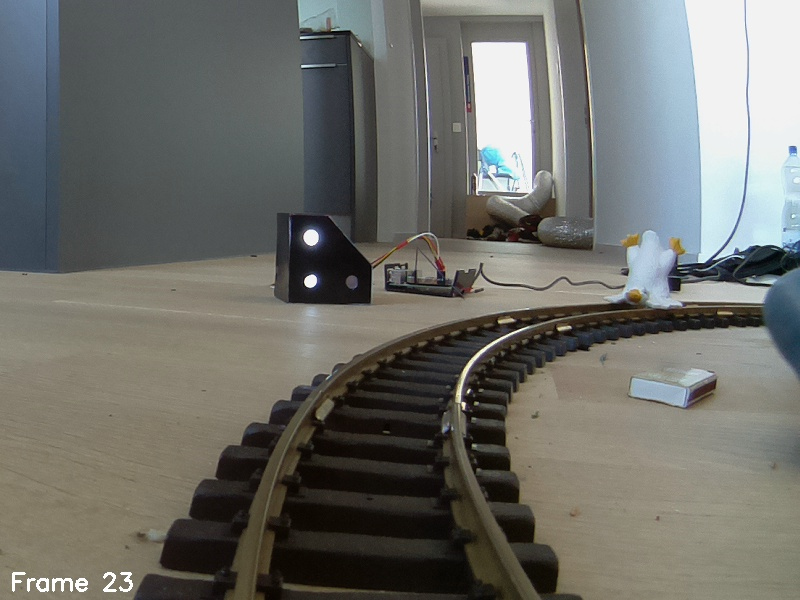Ente: (606, 226, 691, 319)
Fahrt: (274, 210, 374, 307)
